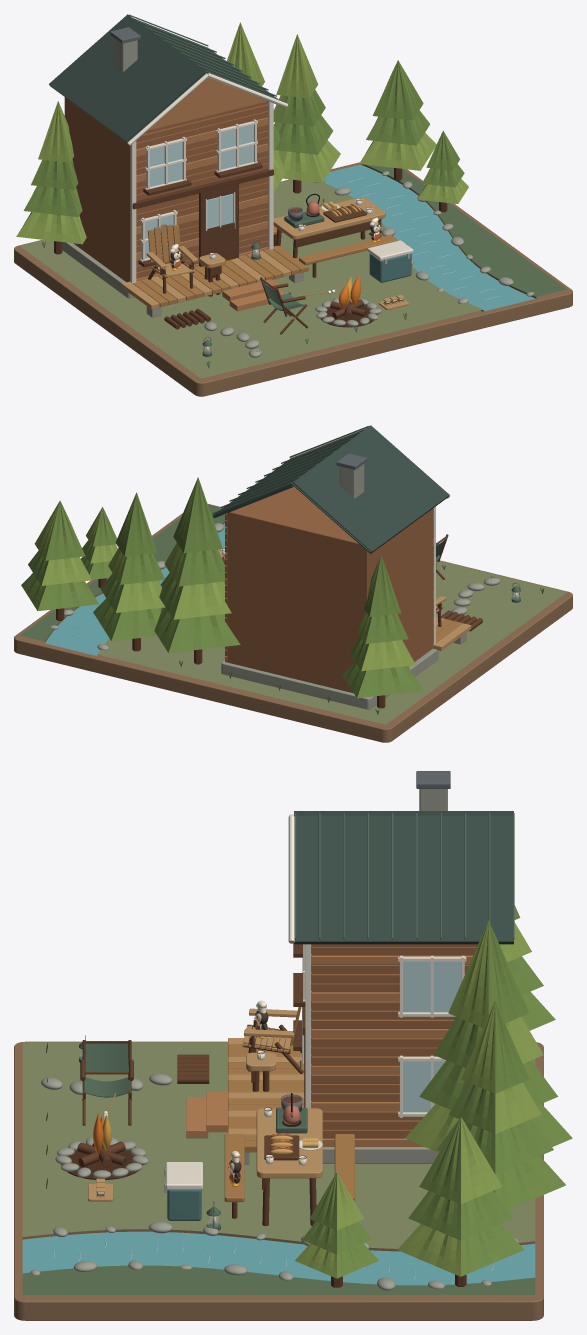
Rendered from sams-riverside-campsite.glb.
3 views of the same model, one above another, from view 1: azimuth 30°, elevation 25°; view 2: azimuth 150°, elevation 25°; view 3: azimuth 270°, elevation 25° (orthographic). The views are drawn at different scales.
Visible parts, largest first — view 1: Sam's riverside-campsite; view 2: Sam's riverside-campsite; view 3: Sam's riverside-campsite.
Boxes of the visible parts, x1,y1,x2,y2 form: Sam's riverside-campsite: [14, 14, 572, 396]; Sam's riverside-campsite: [14, 425, 572, 742]; Sam's riverside-campsite: [14, 771, 572, 1320].
Size of the model in its own units: 9.38 by 5.17 by 7.81.
